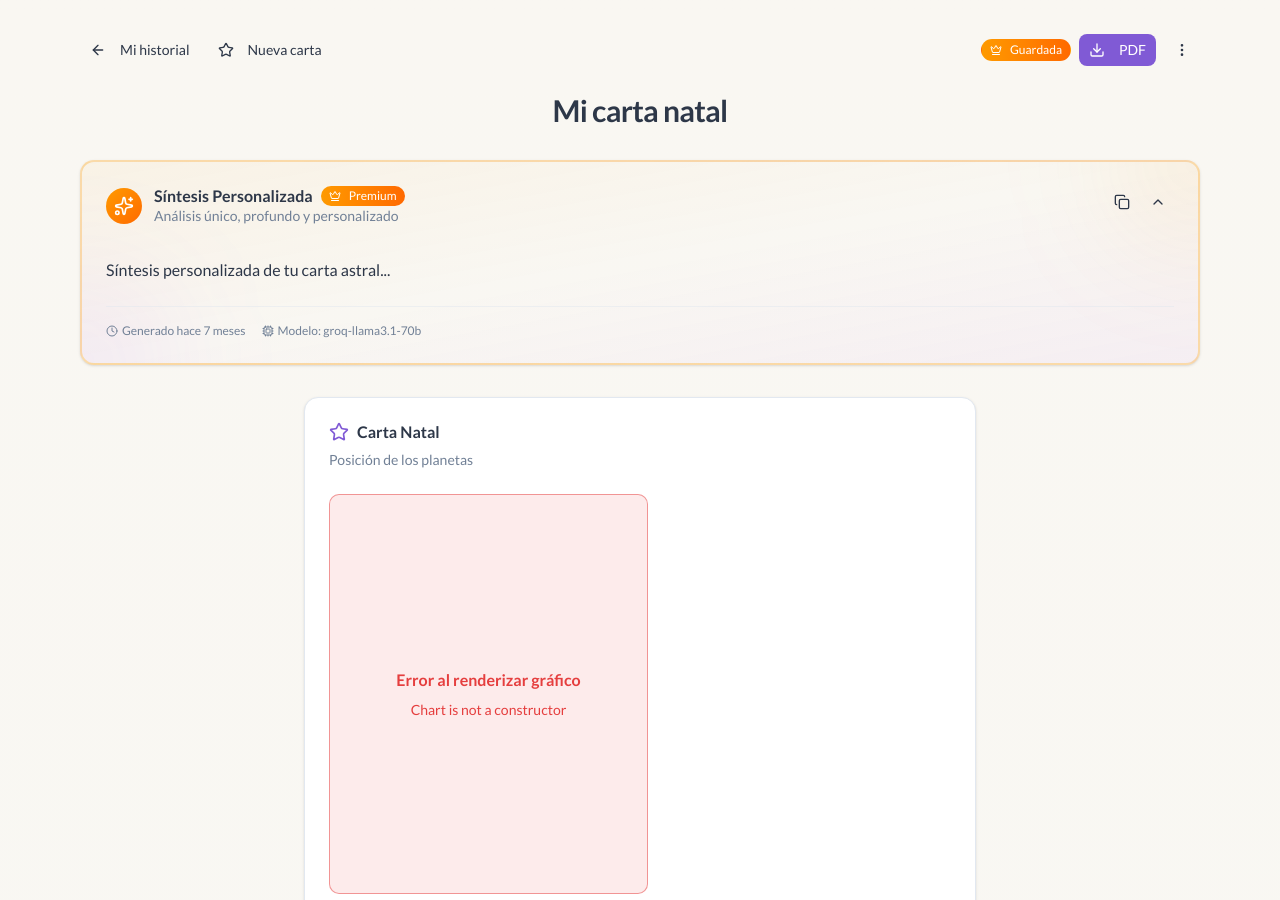
Test: SavedChartPage › Delete functionality › should show delete confirmation dialog when delete is clicked
What coordinates should you click on to do the following:
click the button with test id "menu-button"
I would click on:
 (1182, 50)
Its box is [1164, 32, 1200, 68].
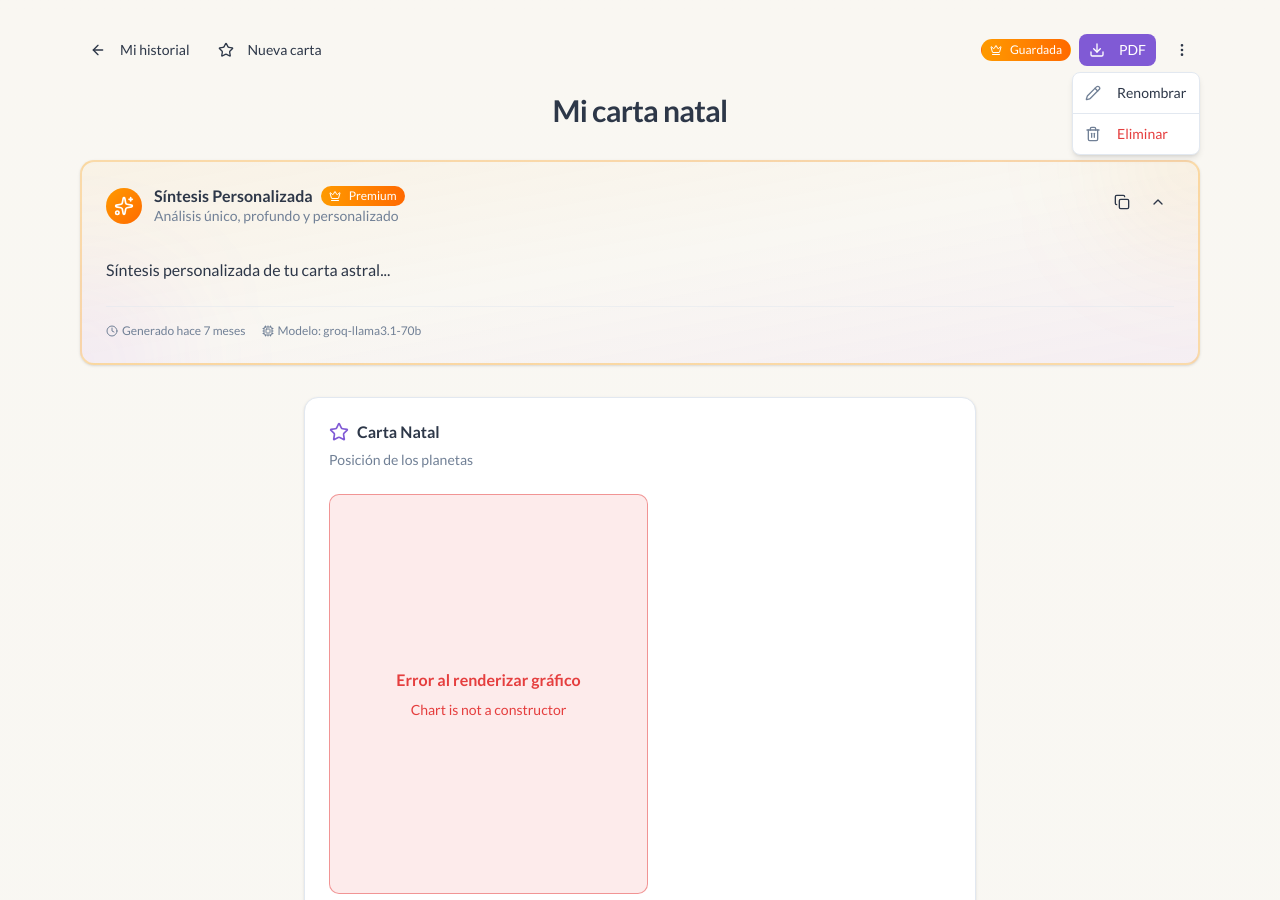
What coordinates should you click on to do the following:
click the menu item "Eliminar"
I would click on:
 (1126, 134)
Its box is [1085, 125, 1168, 142].
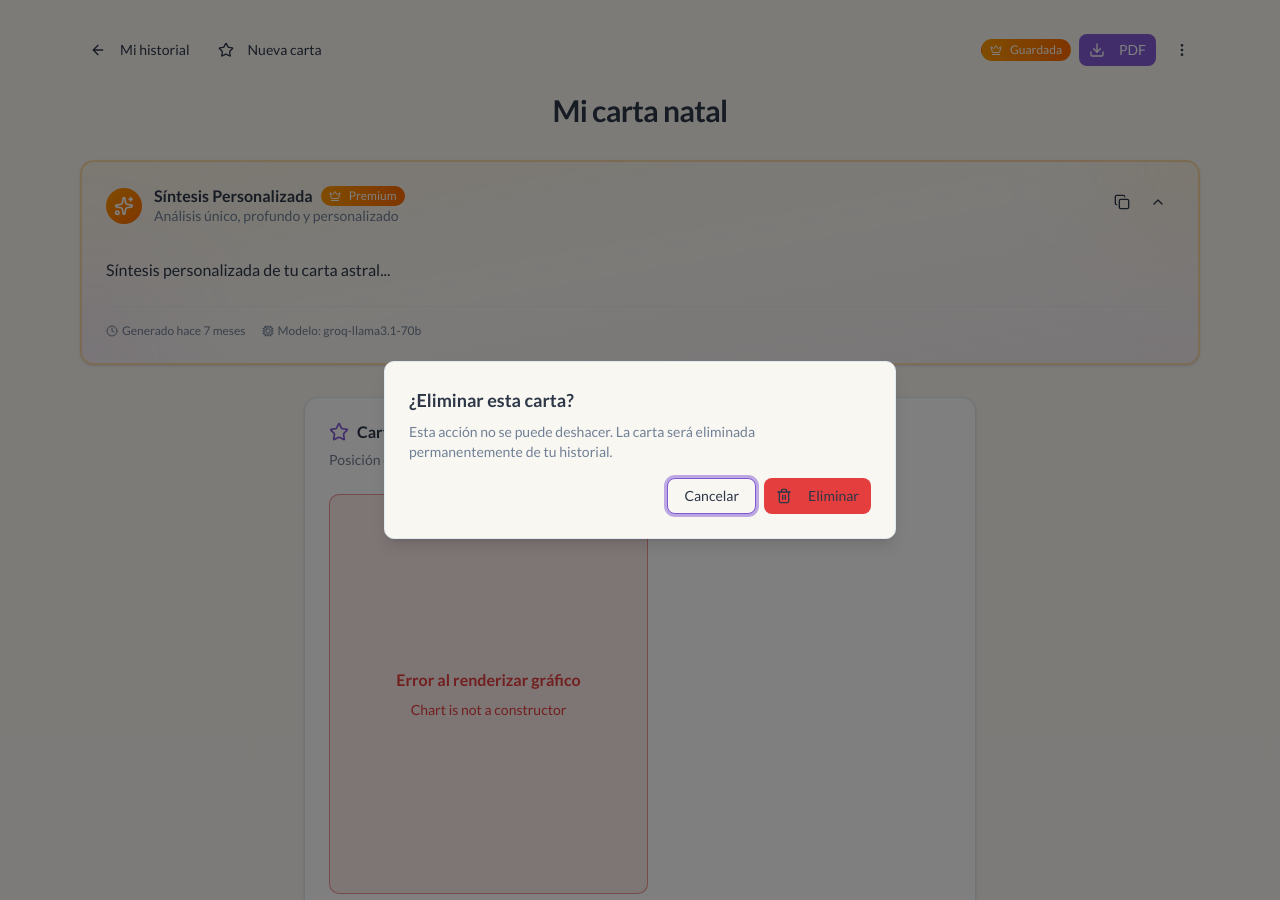
Now the heading "¿Eliminar esta carta?" is shown, box [409, 389, 574, 411]
Now the text "Esta acción no se puede deshacer" is shown, box [409, 423, 755, 460]
